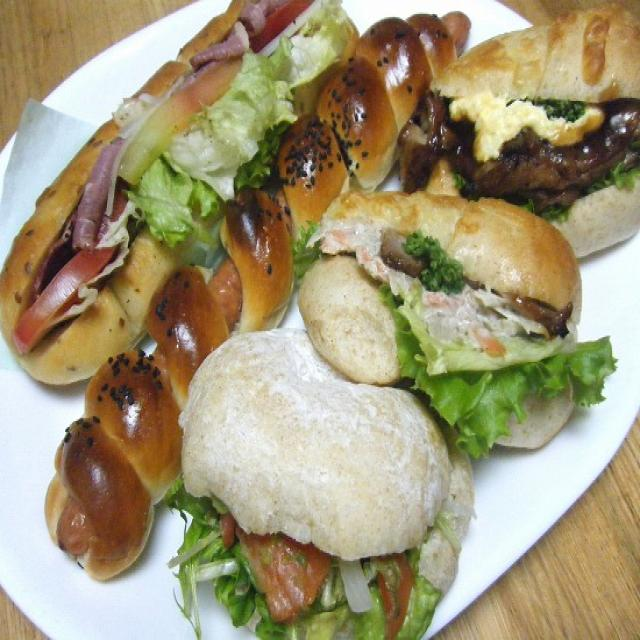三明治: (0, 0, 381, 401)
